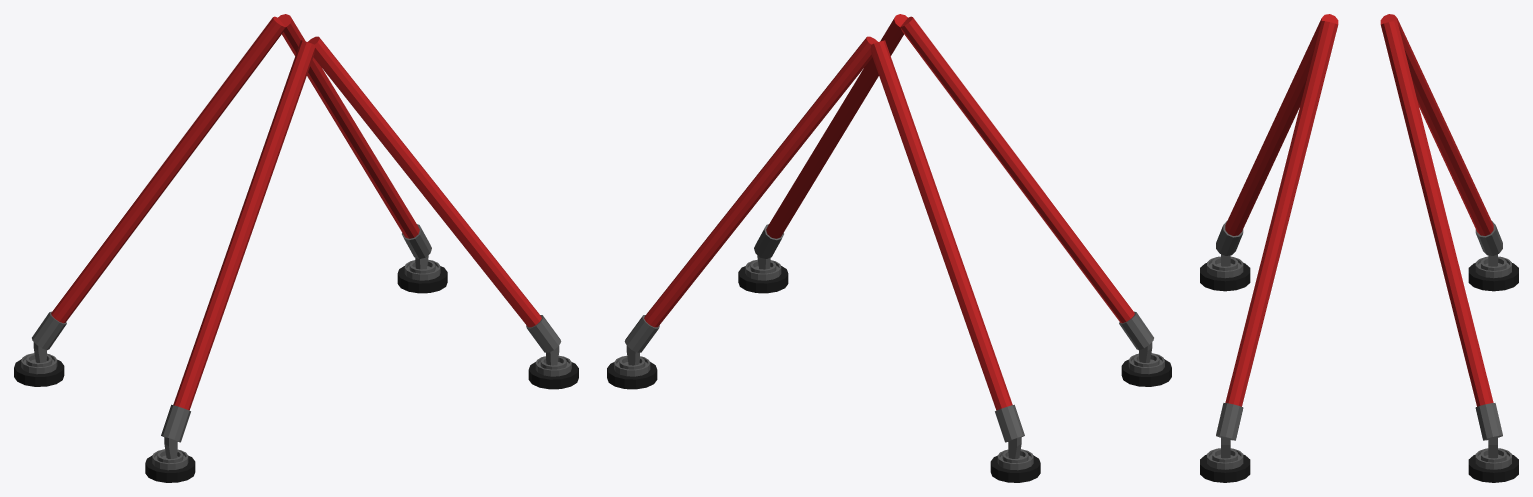
File: SM_pillars_ferriswheel.fbx
3 views of the same model, side by side, from view 1: azimuth 30°, elevation 25°; view 2: azimuth 150°, elevation 25°; view 3: azimuth 270°, elevation 25° (orthographic). The views are drawn at different scales.
Parts seen in each view (by area): view 1: Cylinder017; view 2: Cylinder017; view 3: Cylinder017.
Part boxes in pixels (<box>): Cylinder017: <box>14,14,578,482</box>; Cylinder017: <box>607,14,1171,482</box>; Cylinder017: <box>1200,14,1518,482</box>.
Bounding box in the file's own units: 869 × 680 × 549.
